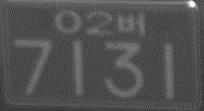0: (53, 8, 83, 34)
1: (61, 39, 95, 98), (153, 42, 186, 100)
2: (85, 10, 115, 36)
3: (104, 39, 144, 98)
7: (14, 37, 53, 95)
버: (116, 11, 146, 36)
